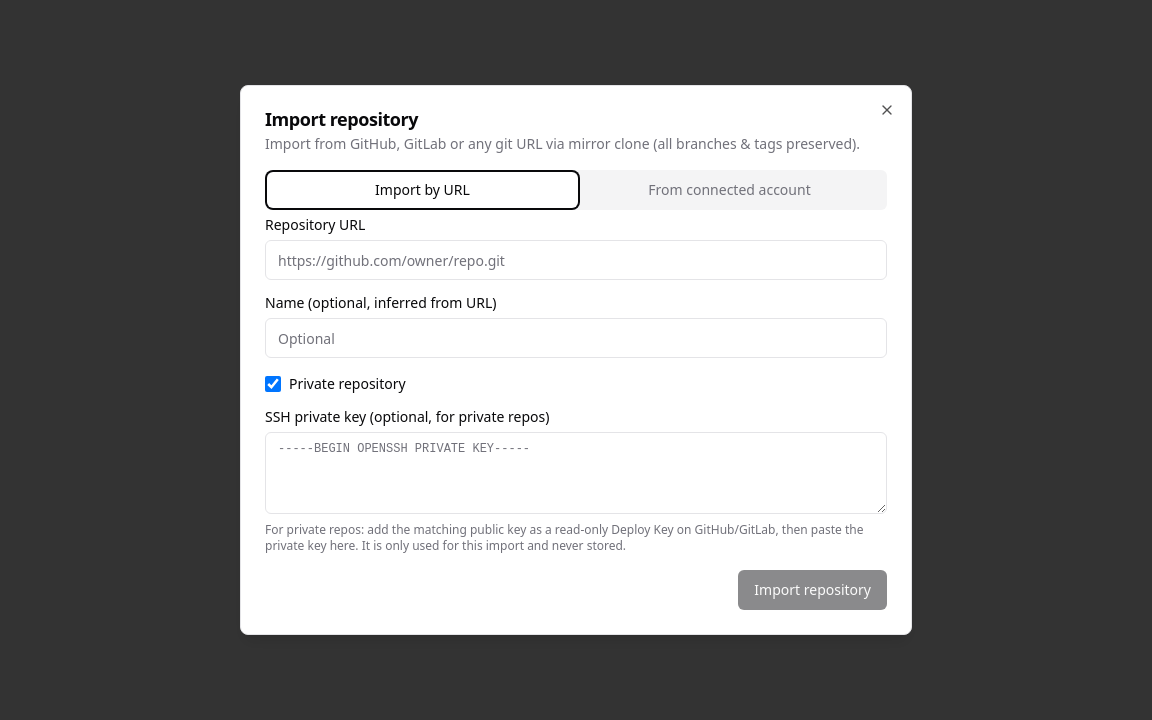
Scenario: ImportRepoDialog (batch import) › 未绑定任何账号时显示引导
The width and height of the screenshot is (1152, 720).
Click the tab "From connected account" at (730, 190), box [576,174,883,206]
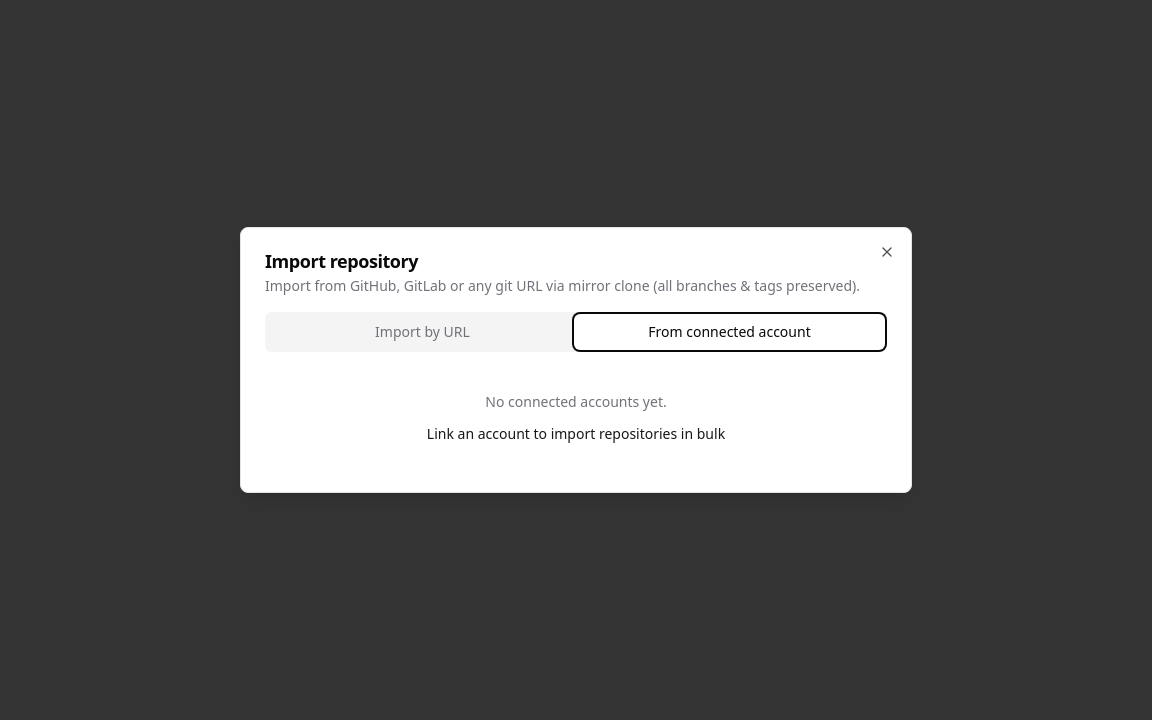
Expected: the text "No connected accounts yet." is shown, [485,392,667,411]
Expected: the link "Link an account to import repositories in bulk" is shown, [427,424,725,443]
